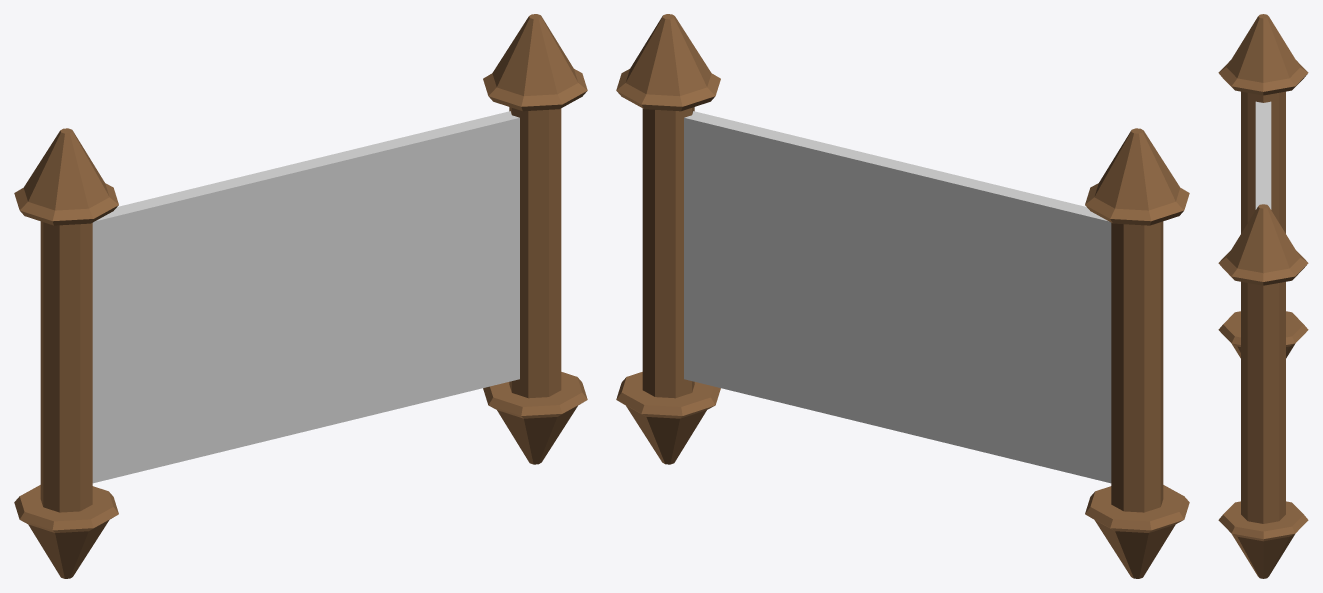
Rendered from scroll.glb.
The picture shows the model from 3 angles, left to right: view 1: azimuth 30°, elevation 25°; view 2: azimuth 150°, elevation 25°; view 3: azimuth 270°, elevation 25°; orthographic projection. The views are drawn at different scales.
Parts seen in each view (by area): view 1: Cube, Cylinder.003; view 2: Cube, Cylinder.003; view 3: Cylinder.003, Cube.
Part boxes in pixels (<box>): Cube: <box>92,111,519,483</box>; Cylinder.003: <box>14,14,587,578</box>; Cube: <box>684,111,1111,483</box>; Cylinder.003: <box>616,14,1189,578</box>; Cylinder.003: <box>1218,14,1308,578</box>; Cube: <box>1255,101,1271,209</box>.
Bounding box in the file's own units: 2.4 × 1.82 × 0.4013.
